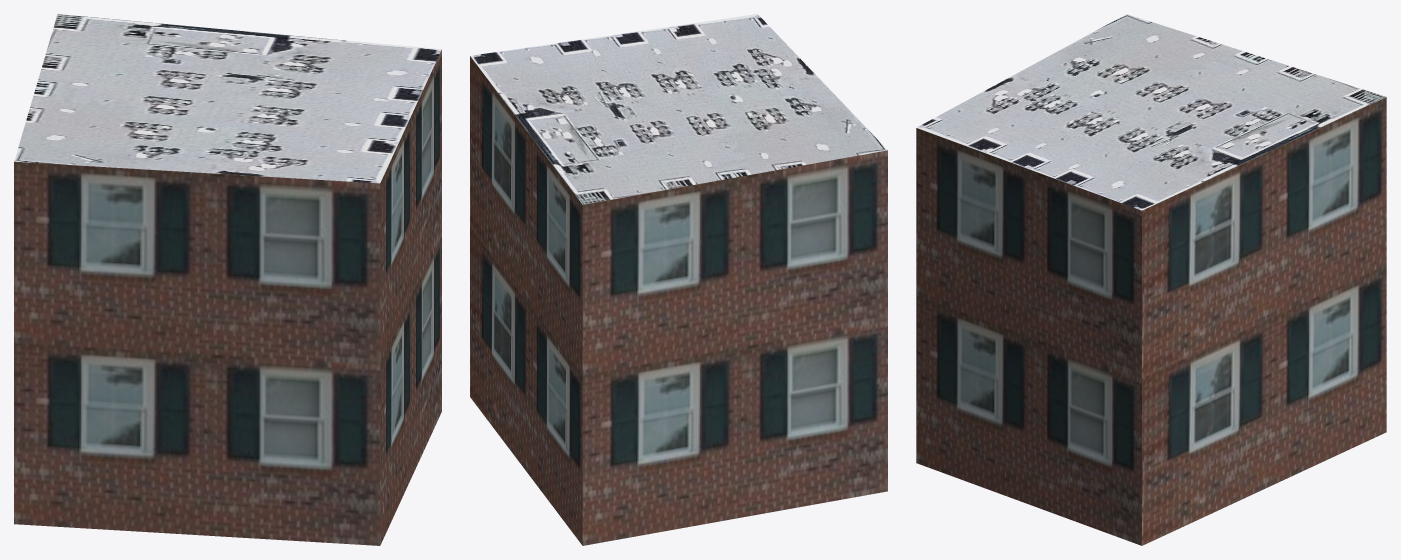
File: ResTex__923.fbx
3 renders of one model, left to right at view 1: azimuth 30°, elevation 25°; view 2: azimuth 150°, elevation 25°; view 3: azimuth 270°, elevation 25°, orthographic. The views are drawn at different scales.
Parts seen in each view (by area): view 1: CityEngineMaterial_14_m, CityEngineMaterial_8_m; view 2: CityEngineMaterial_14_m, CityEngineMaterial_8_m; view 3: CityEngineMaterial_14_m, CityEngineMaterial_8_m.
Boxes of the visible parts, <box> form: CityEngineMaterial_14_m: <box>14,49,441,545</box>; CityEngineMaterial_8_m: <box>14,14,441,183</box>; CityEngineMaterial_14_m: <box>470,56,887,545</box>; CityEngineMaterial_8_m: <box>470,14,887,204</box>; CityEngineMaterial_14_m: <box>916,97,1386,545</box>; CityEngineMaterial_8_m: <box>916,14,1385,210</box>.
Size of the model in its own units: 7.55 by 6 by 7.63.
2 materials, 2 textured.
